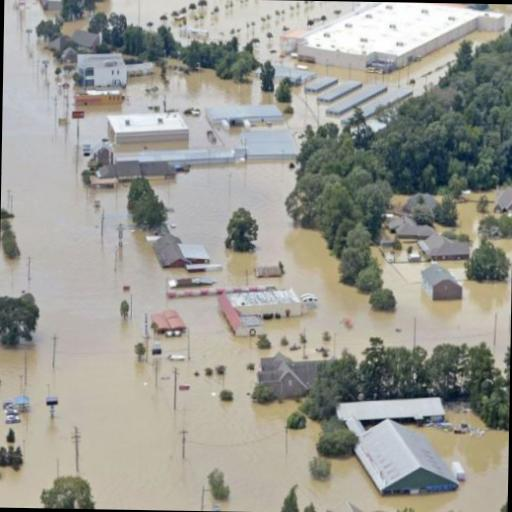flood: (0, 0, 512, 512), (76, 68, 275, 148), (189, 0, 353, 63), (308, 41, 460, 93), (254, 86, 341, 134), (98, 0, 195, 27), (457, 191, 494, 248), (448, 412, 485, 428), (468, 31, 500, 43), (393, 196, 412, 212), (437, 223, 447, 233), (435, 196, 444, 202)
house: (297, 1, 506, 70), (355, 413, 458, 500), (308, 80, 380, 138), (220, 288, 310, 330), (204, 100, 290, 138), (104, 110, 194, 144), (256, 352, 312, 406), (148, 226, 215, 271), (76, 48, 126, 101), (418, 234, 472, 264), (421, 264, 463, 302), (387, 218, 436, 242), (116, 160, 142, 184), (72, 29, 102, 49), (142, 158, 169, 180), (492, 185, 512, 214), (36, 0, 63, 12)
